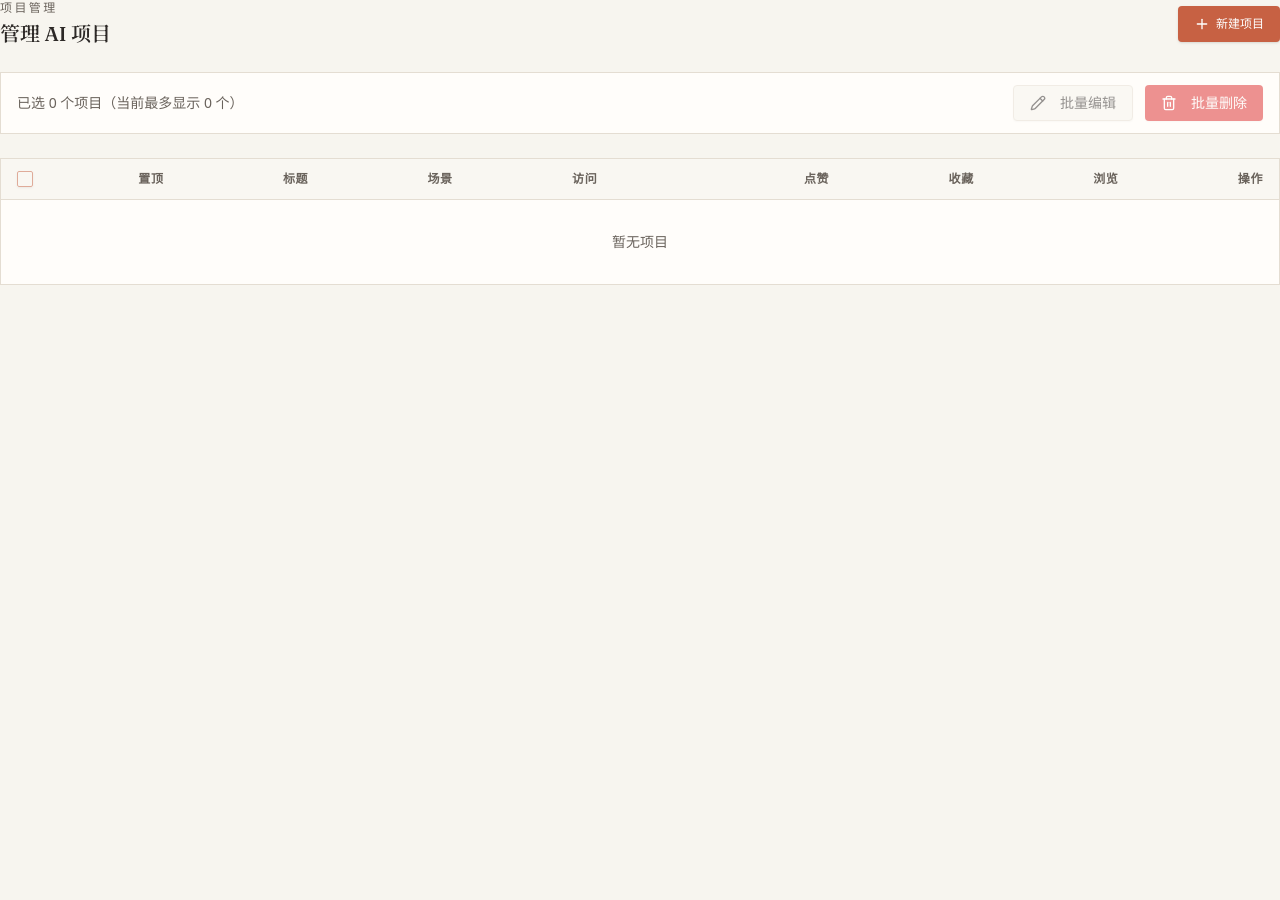
Scenario: AdminProjects save › sends only one create request when Save is clicked repeatedly while pending
Click the button "新建项目".
click(1229, 24)  # box 1178,6 -> 1279,42
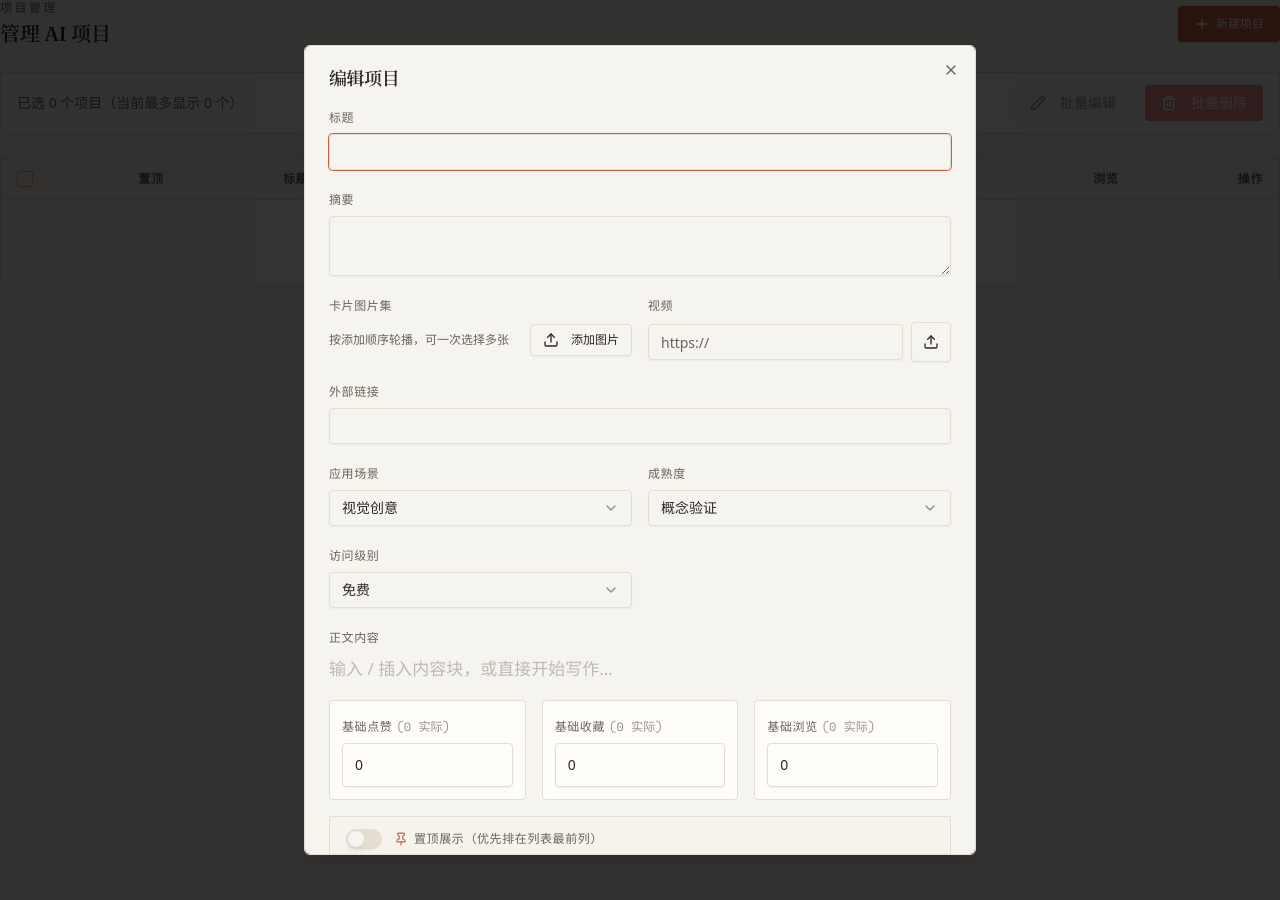
Expected: the dialog is shown, 304,45 -> 976,855
Type "重复项目测试" into the 1st field.
click(640, 152); type("重复项目测试")  # box 329,134 -> 951,170
(page scrolled)
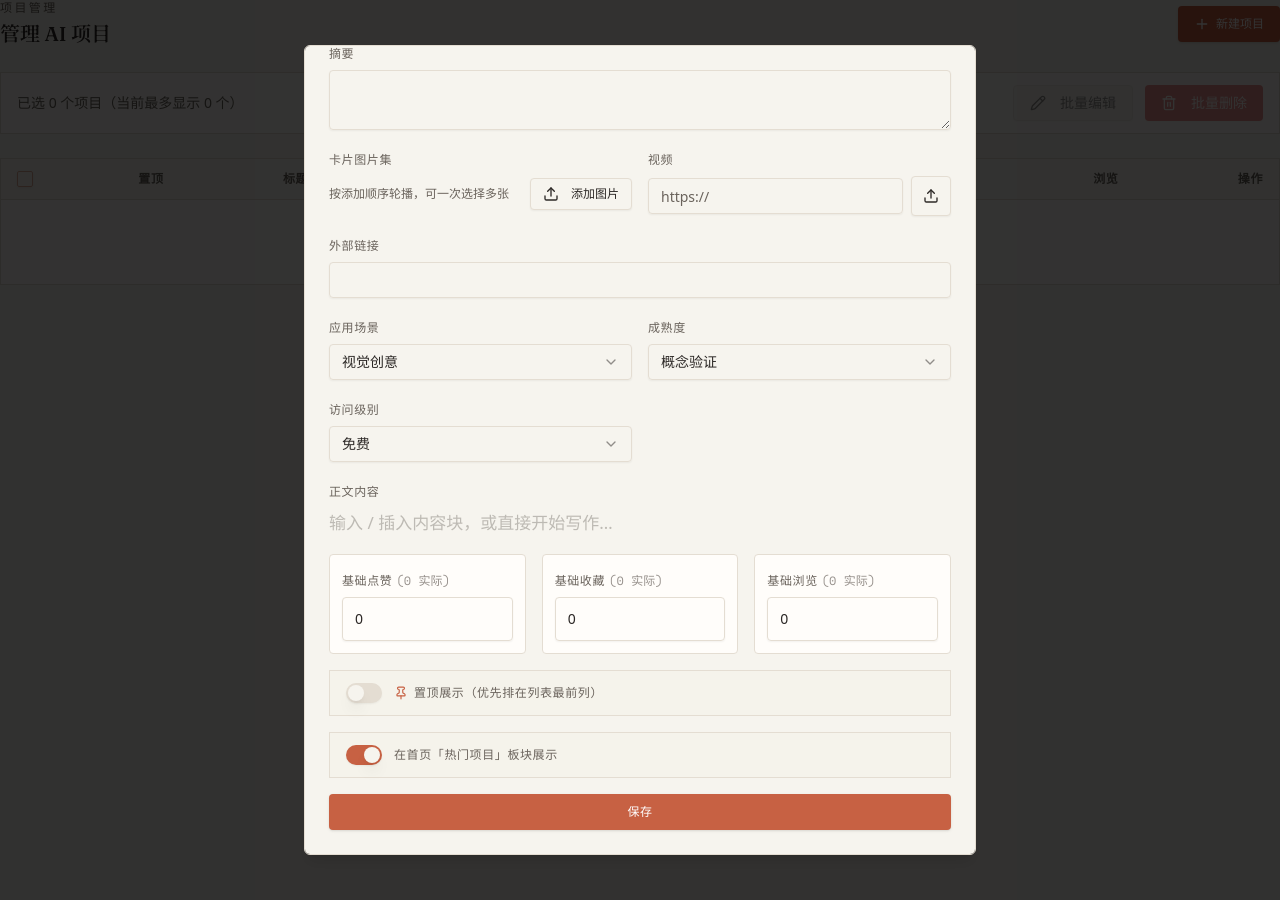
Click the button "保存".
click(640, 812)  # box 329,794 -> 951,830
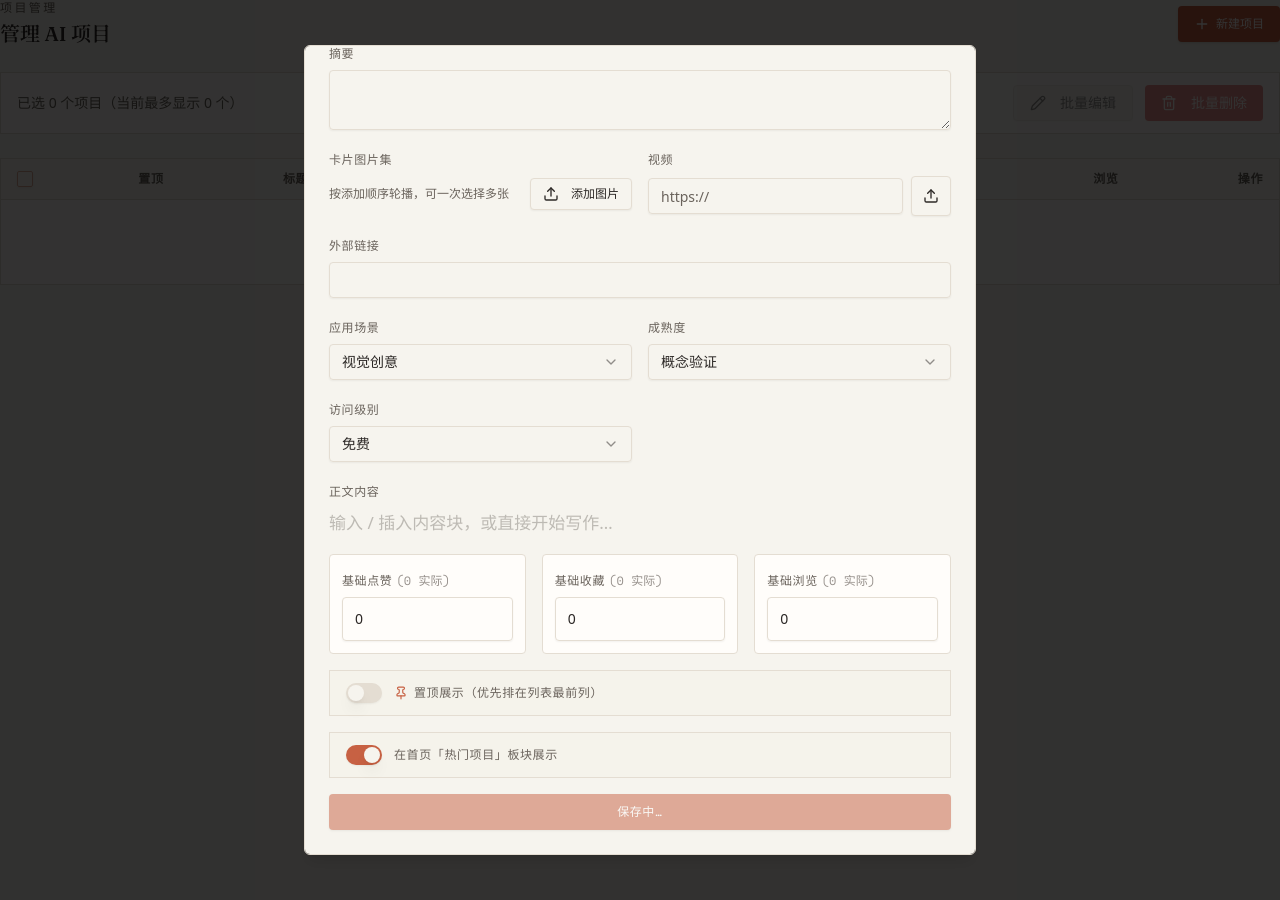
Click the button "保存中…".
click(640, 812)  # box 329,794 -> 951,830
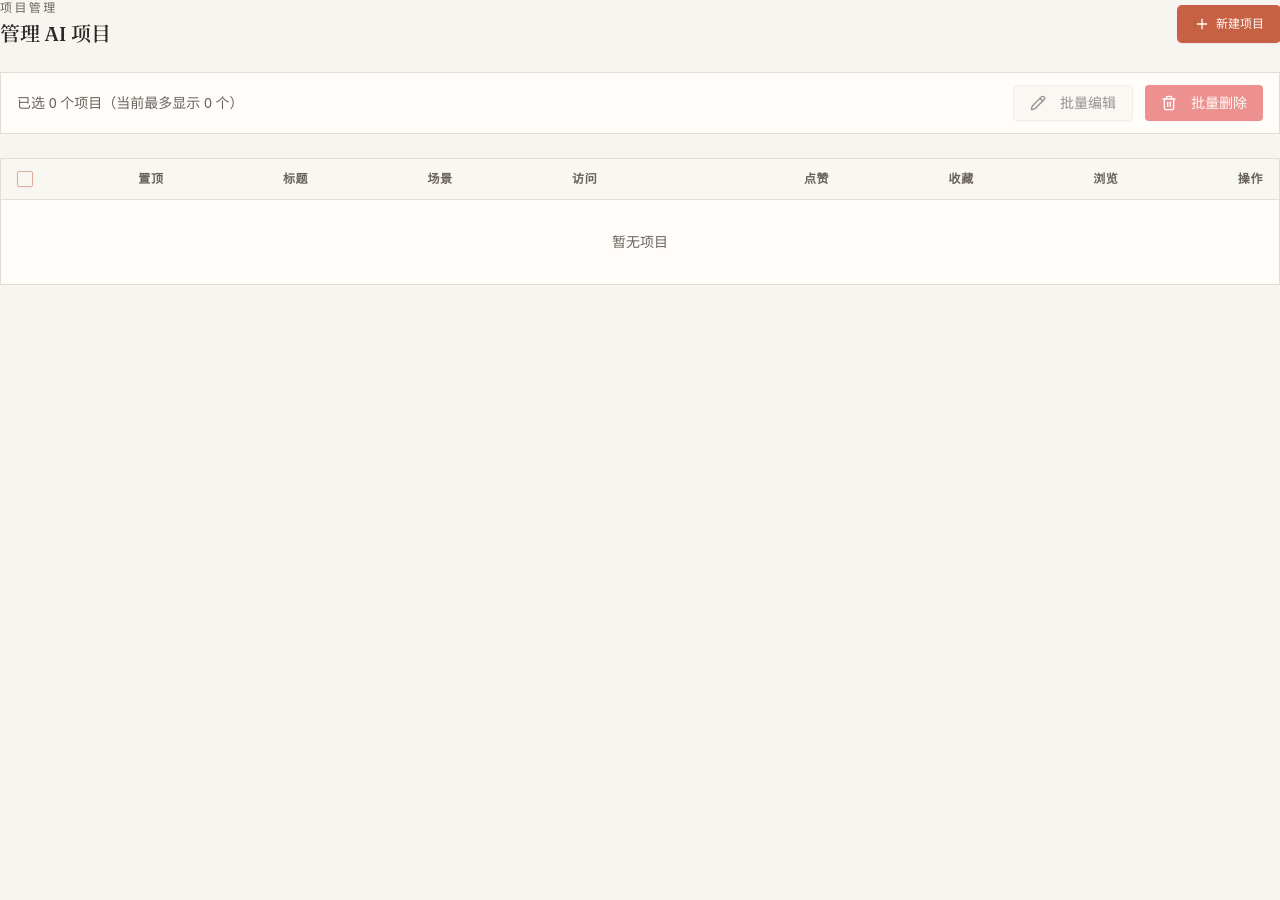
Expected: the button "保存" is gone
